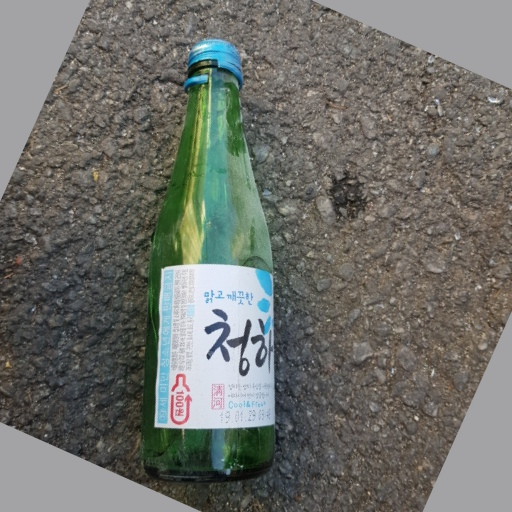Glass_0: (136, 37, 283, 482)
